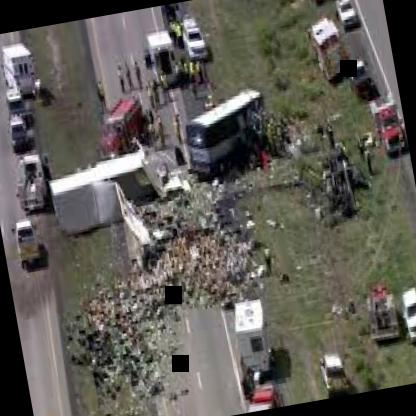accident: (32, 104, 204, 273)
